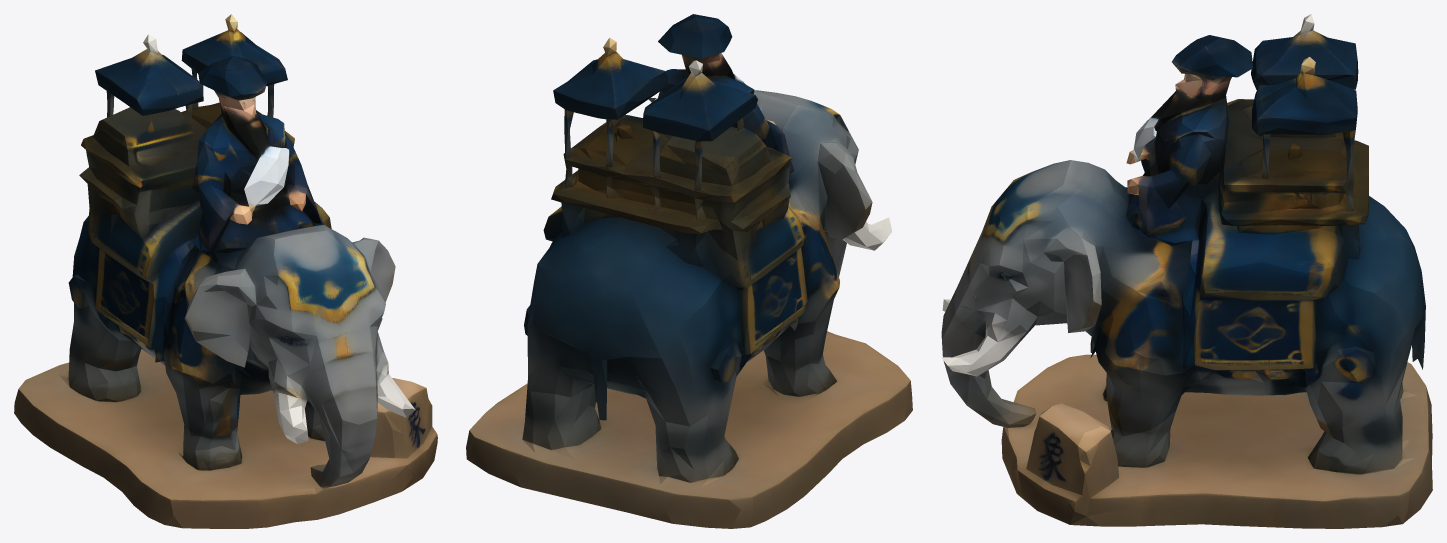
The model's file is elephant_black.glb.
3 renders of one model, left to right at view 1: azimuth 30°, elevation 25°; view 2: azimuth 150°, elevation 25°; view 3: azimuth 270°, elevation 25°, orthographic. The views are drawn at different scales.
Visible parts, largest first — view 1: Mesh; view 2: Mesh; view 3: Mesh.
Part boxes in pixels (box(x1,y1,x2,y2)): Mesh: box(14, 14, 437, 528); Mesh: box(466, 14, 912, 528); Mesh: box(941, 14, 1432, 528).
Bounding box in the file's own units: 1.34 × 1.76 × 1.87.
1 material, 1 textured.
